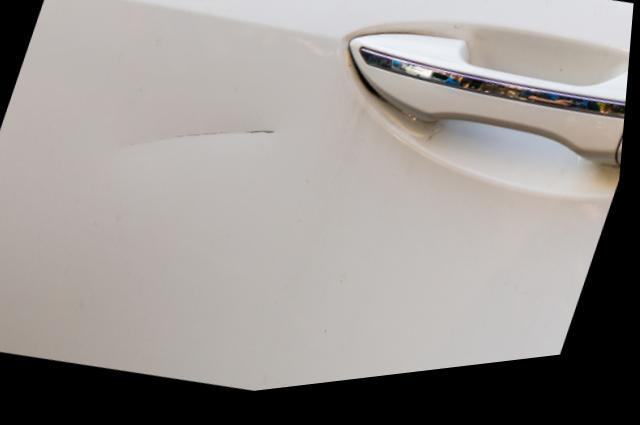scratch: (117, 129, 293, 153)
